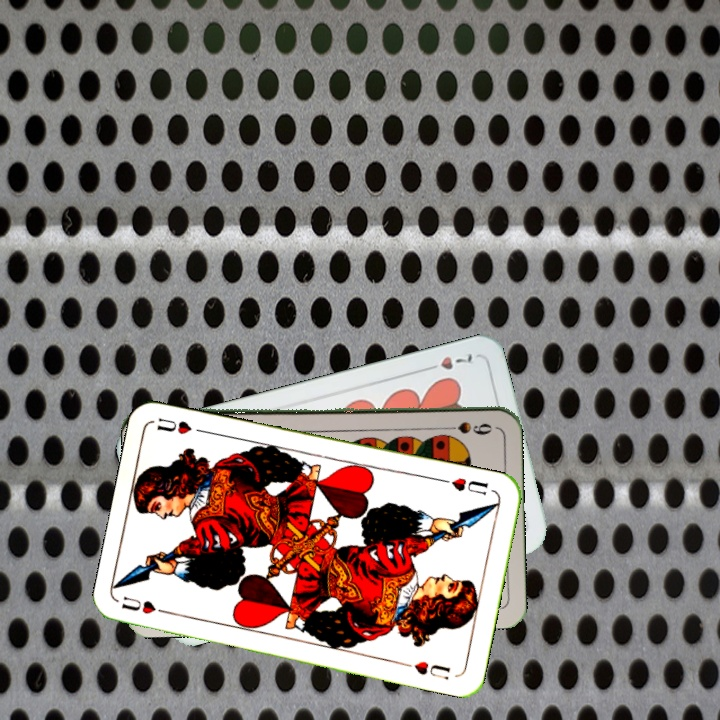H7: (420, 349, 475, 374)
HU: (118, 592, 175, 618), (437, 473, 491, 498)
S9: (436, 418, 495, 435)
